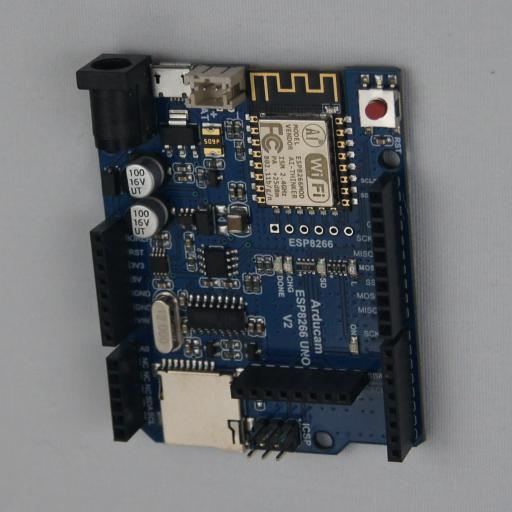Arduino Uno Camera Shield: (76, 51, 430, 462)
